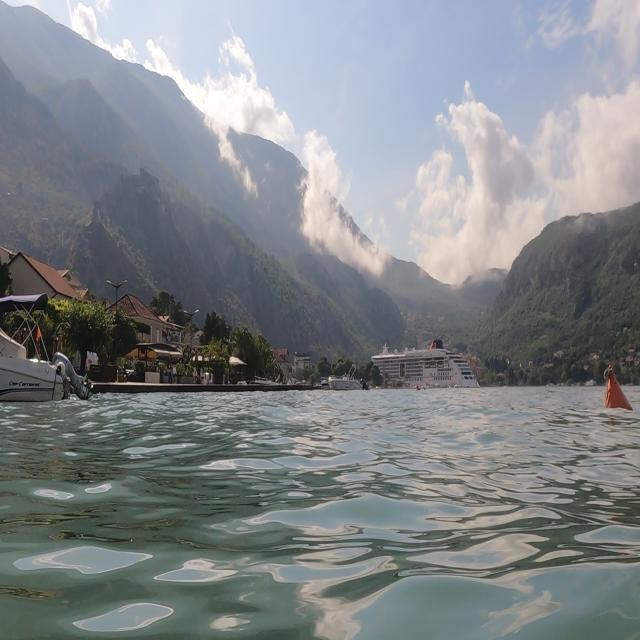boat: (0, 280, 99, 412), (370, 340, 486, 399), (326, 359, 371, 393)
buoy: (596, 356, 637, 424)
